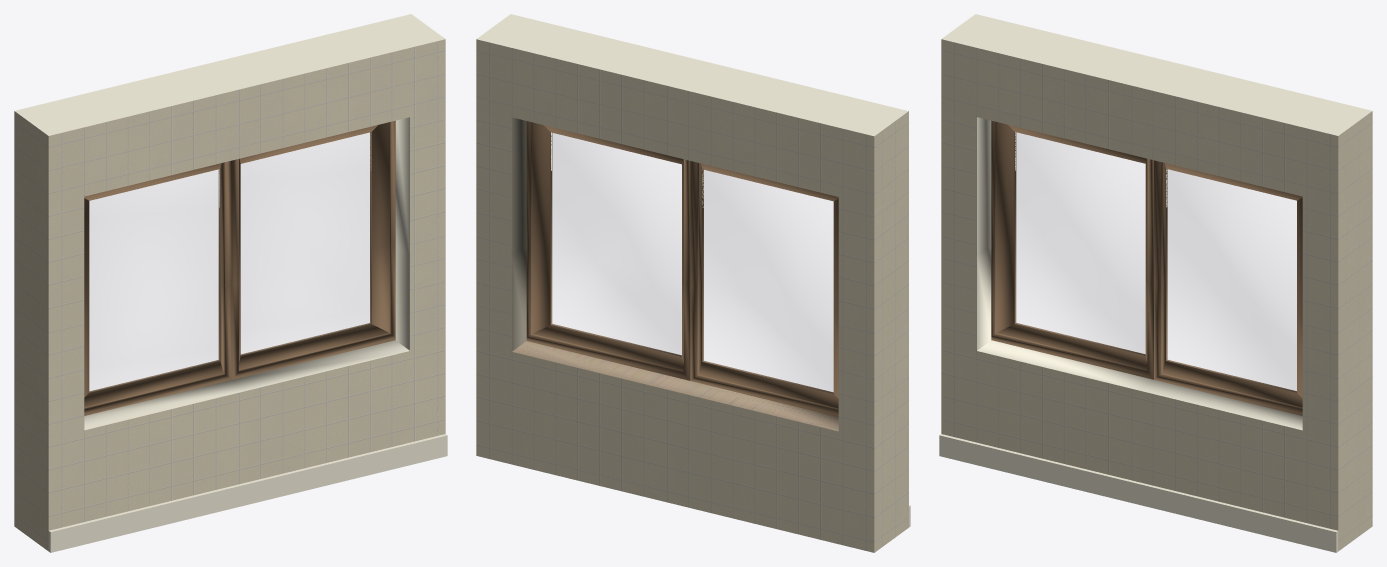
The model's file is DoubleWindowWall.fbx.
3 views of the same model, side by side, from view 1: azimuth 30°, elevation 25°; view 2: azimuth 150°, elevation 25°; view 3: azimuth 330°, elevation 25° (orthographic).
Parts seen in each view (by area): view 1: Double Window Wall; view 2: Double Window Wall; view 3: Double Window Wall.
Part boxes in pixels (x1,y1,x2,y2): Double Window Wall: (14,14,447,552); Double Window Wall: (476,14,910,552); Double Window Wall: (939,14,1372,552).
Bounding box in the file's own units: 400 × 400 × 63.3.
Materials: 3 (1 with a texture image).
